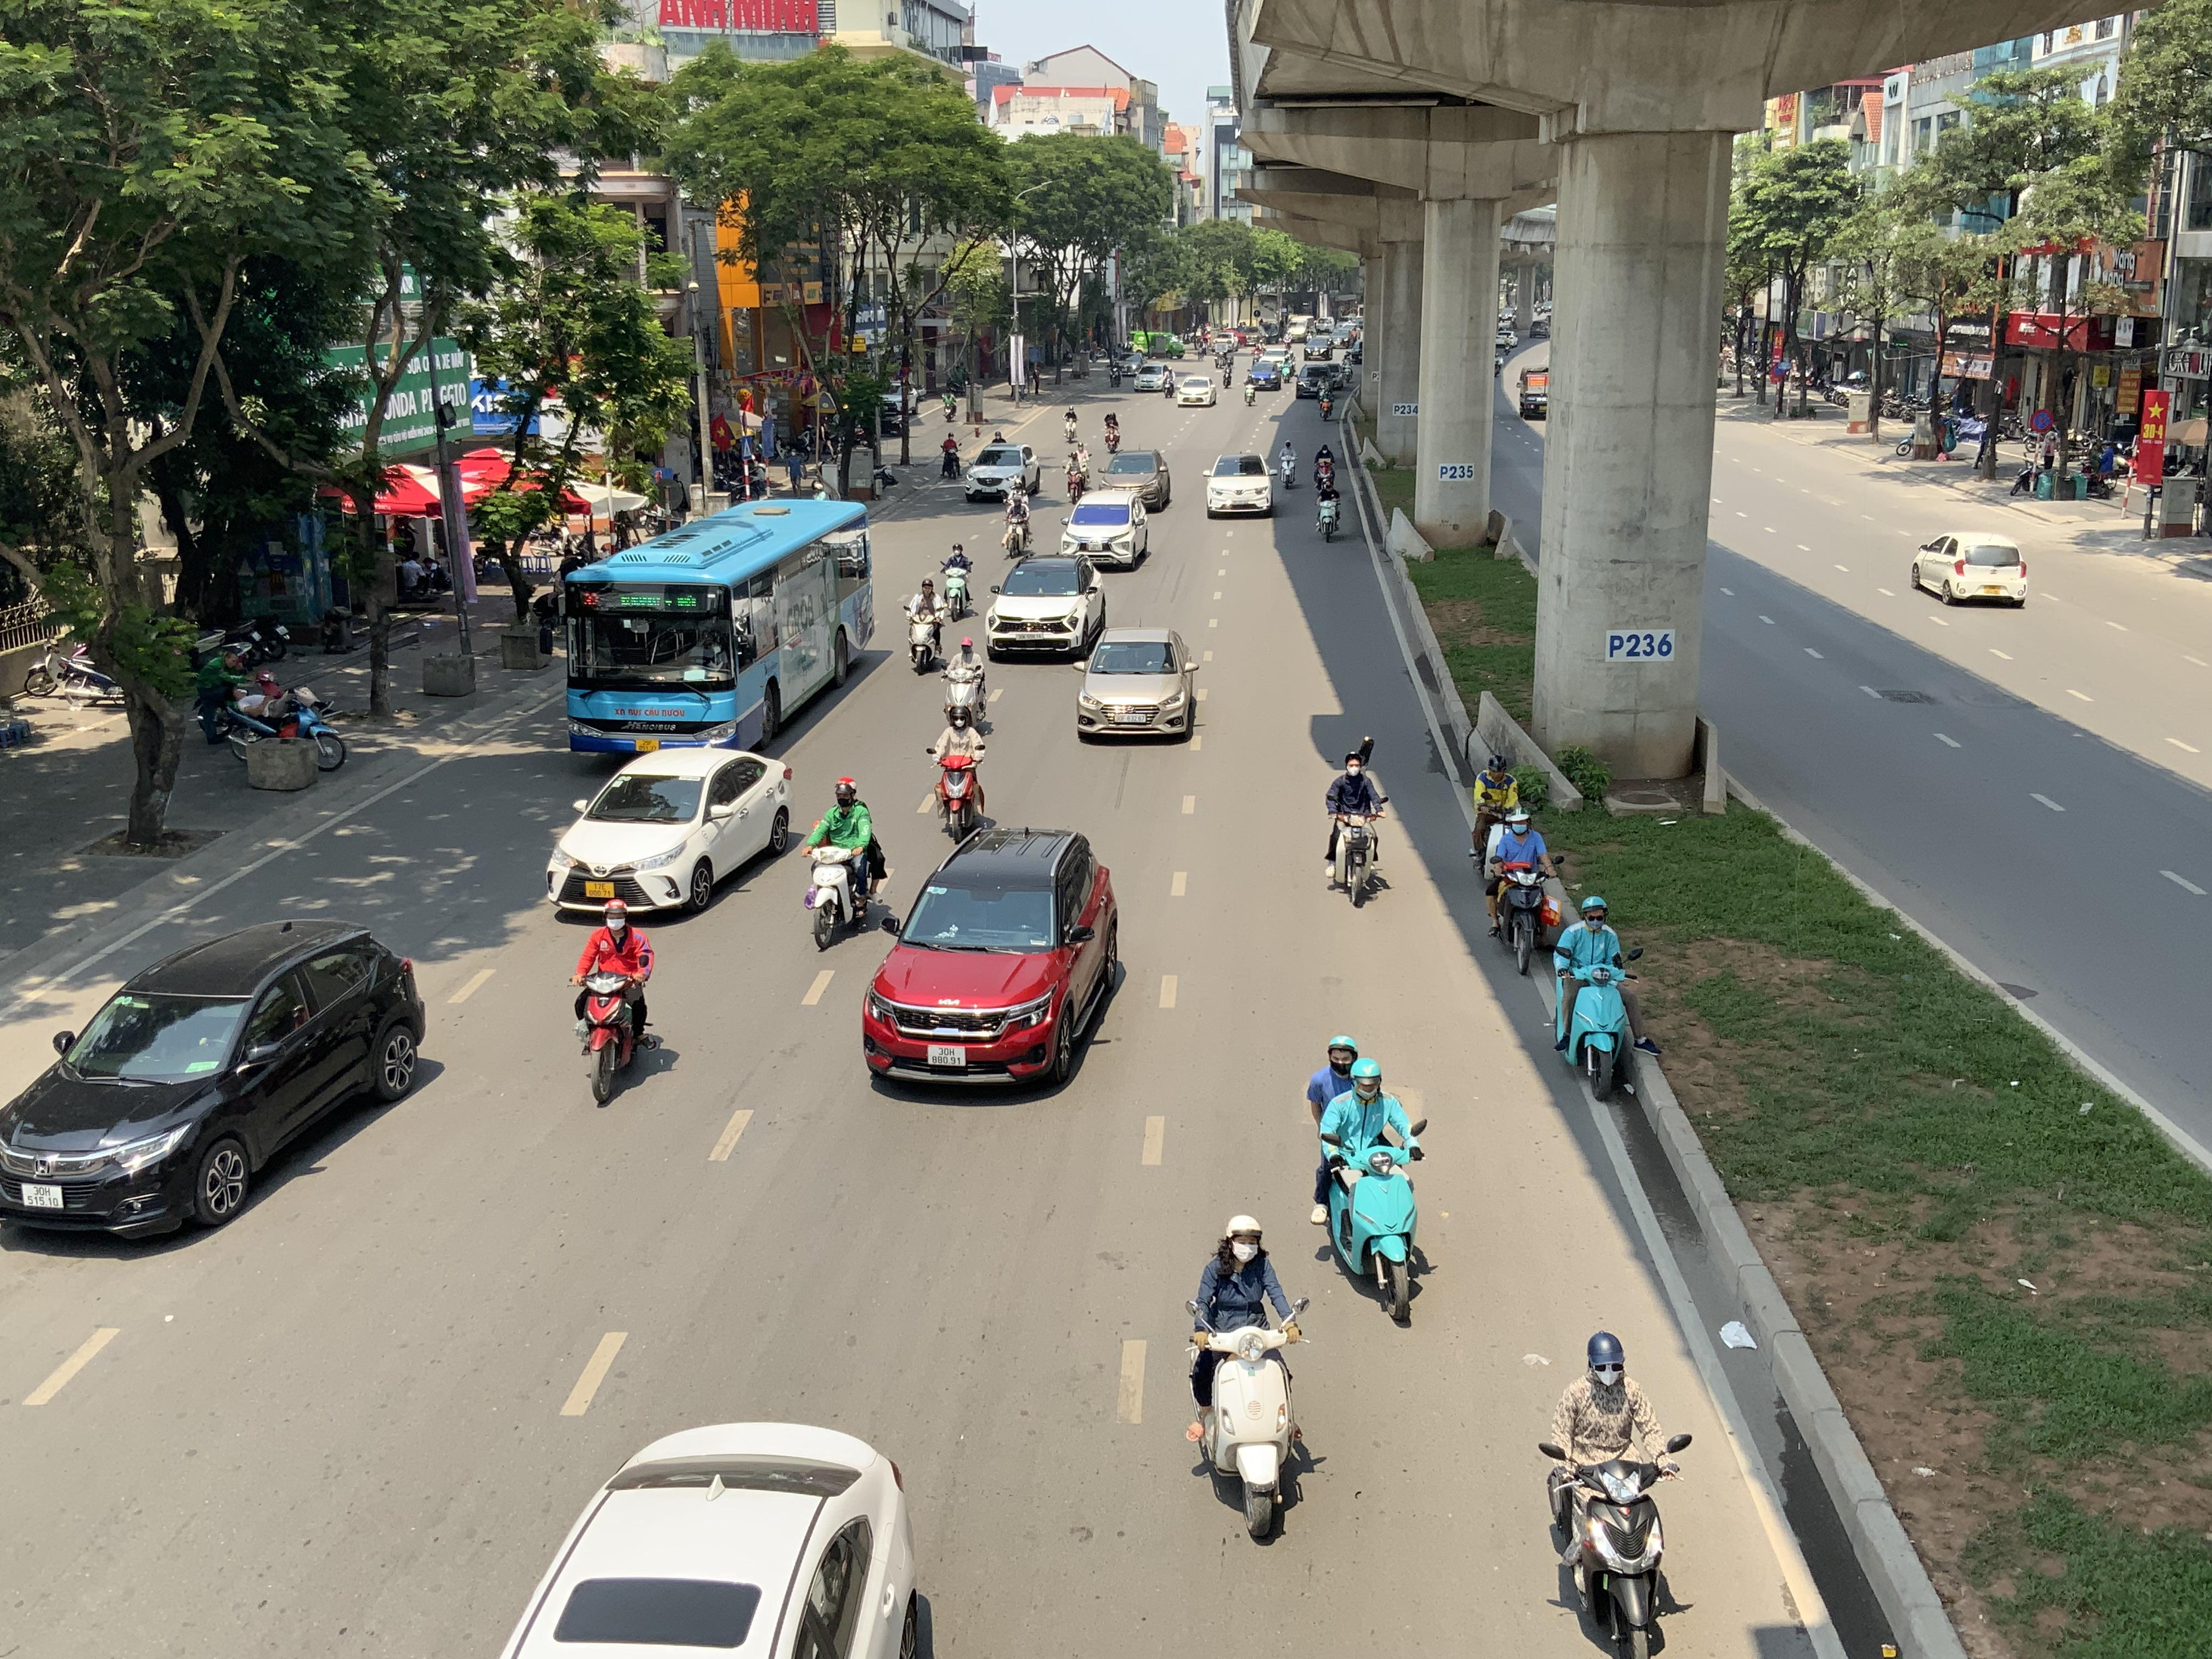BSD: (1115, 714, 1146, 723), (1015, 633, 1043, 640)
BSV: (21, 1183, 64, 1209), (927, 1044, 967, 1066), (585, 880, 615, 899), (636, 739, 658, 751)
bus: (563, 491, 878, 765)
car: (0, 917, 428, 1241), (432, 1420, 937, 1659), (860, 826, 1125, 1094), (547, 744, 794, 920), (1075, 626, 1202, 744), (986, 554, 1108, 660), (1911, 530, 2027, 606), (1061, 491, 1151, 570), (963, 439, 1043, 504), (1204, 451, 1275, 516), (1101, 448, 1172, 512), (1176, 375, 1219, 408), (1296, 362, 1334, 397), (1249, 361, 1284, 392), (1132, 366, 1174, 390), (1113, 350, 1144, 375)
motorbike: (1540, 1330, 1693, 1659), (1186, 1213, 1317, 1547), (1310, 1047, 1433, 1330), (1550, 892, 1644, 1101), (573, 899, 664, 1108), (803, 775, 892, 951), (226, 666, 348, 779), (1480, 802, 1559, 976), (1324, 741, 1390, 908), (927, 706, 991, 842), (1467, 751, 1524, 880), (941, 636, 991, 734), (904, 577, 946, 673), (939, 542, 974, 620), (1001, 484, 1035, 558), (1313, 467, 1341, 540), (1275, 439, 1301, 491), (937, 430, 963, 479), (1312, 443, 1338, 491), (1062, 451, 1083, 504), (1075, 443, 1092, 490), (1103, 411, 1122, 453), (1318, 389, 1336, 422), (1062, 406, 1078, 443), (1242, 375, 1256, 404), (1221, 361, 1235, 389)
truck: (1517, 366, 1550, 420)
